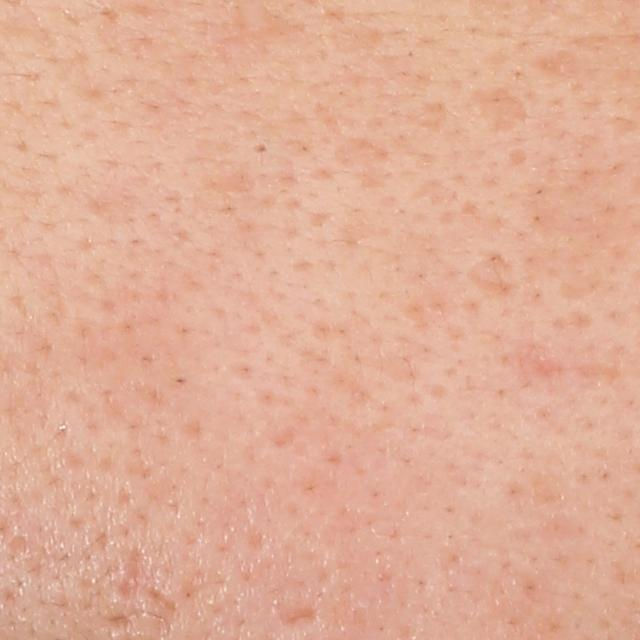atrophic_scar: (113, 545, 181, 615), (455, 246, 518, 307), (470, 84, 531, 134), (410, 99, 450, 132), (277, 606, 316, 628)
comedo: (247, 139, 274, 158)
